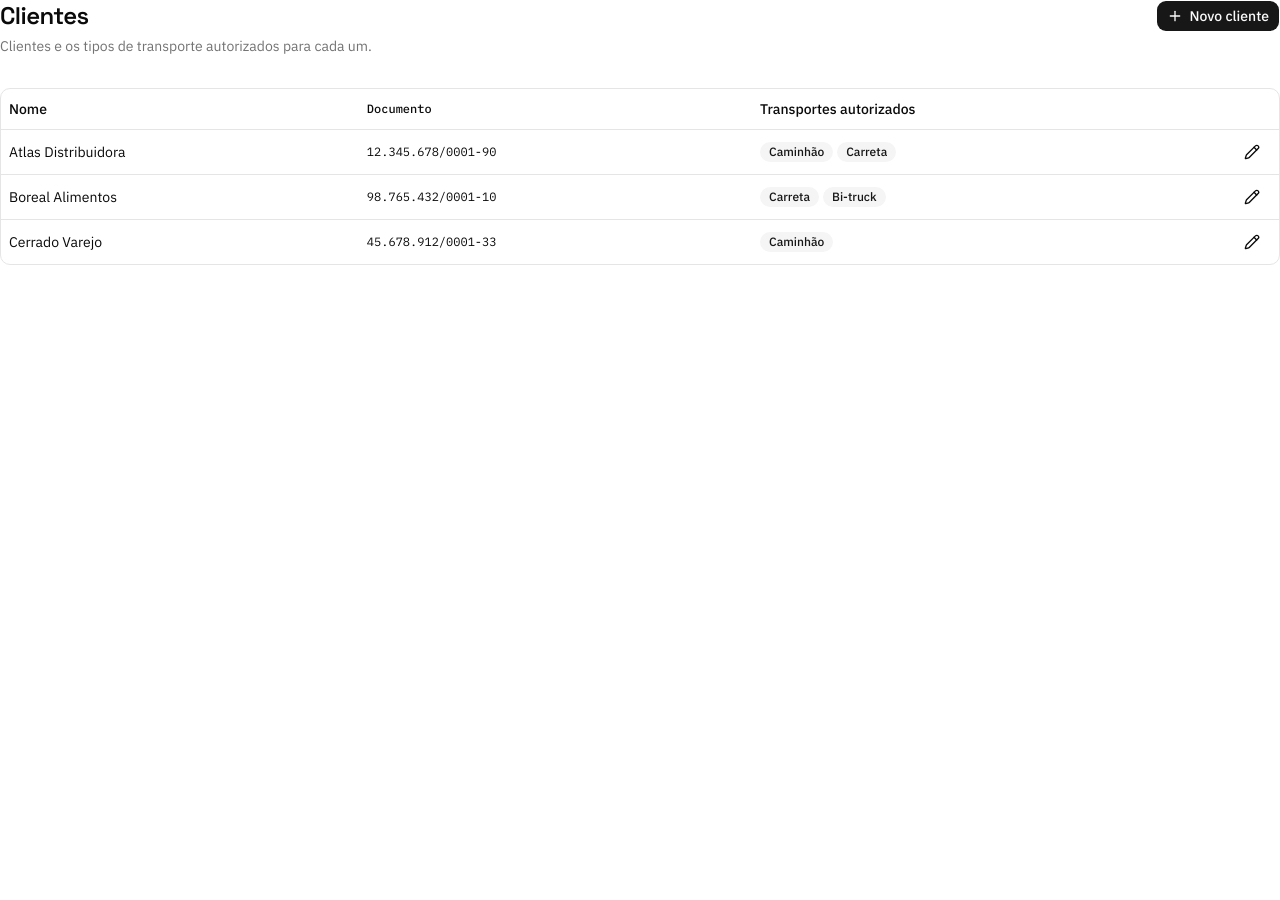
Test: ClientsView (integração) › cria um novo cliente selecionando os transportes autorizados
Expected: the text "Atlas Distribuidora" is shown, x1=1 y1=129 x2=359 y2=174
Click the button "Novo cliente" at (1218,16), box x1=1156 y1=0 x2=1279 y2=32
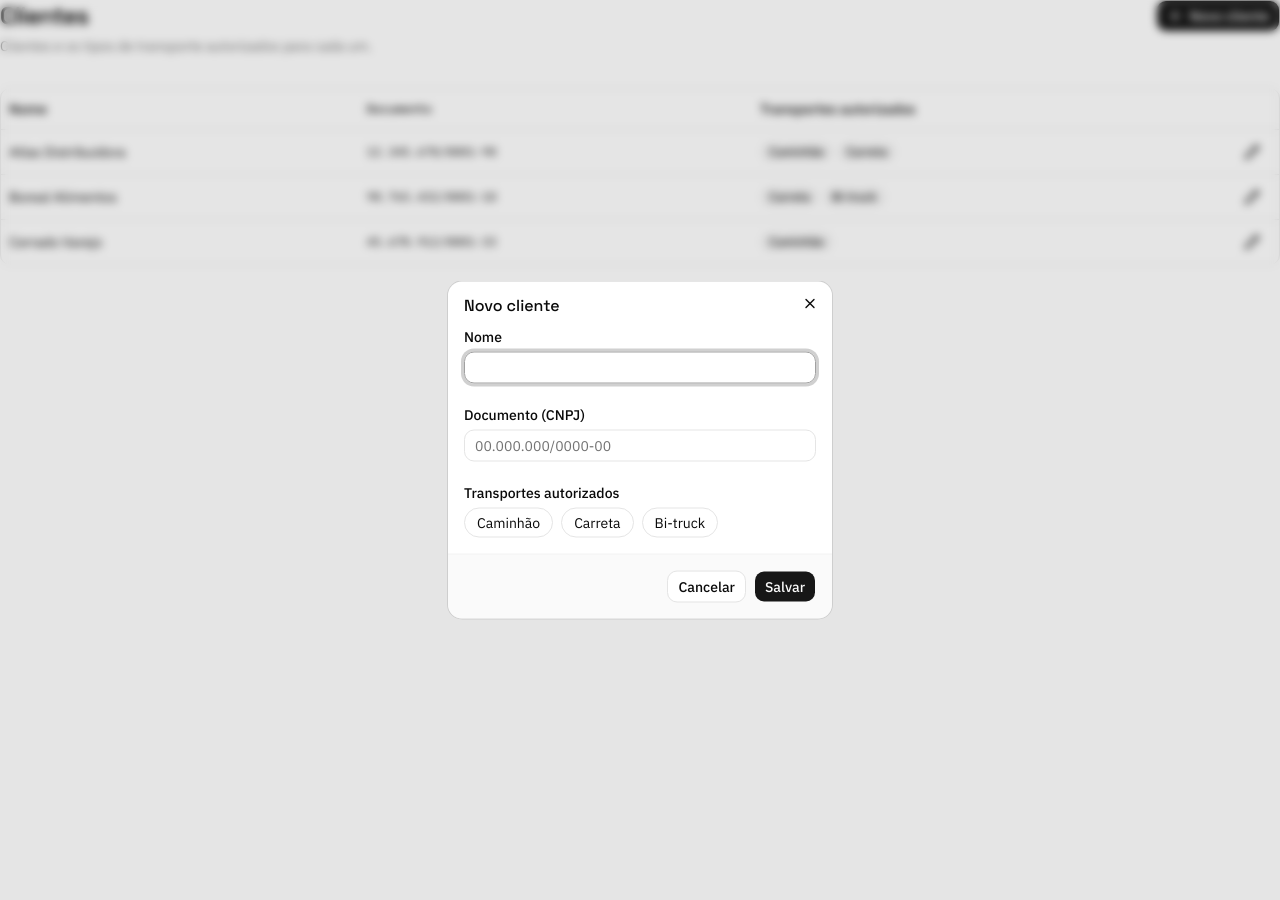
Type "Delta Logística" into the field labelled "Nome" at (640,368), box x1=464 y1=352 x2=816 y2=384
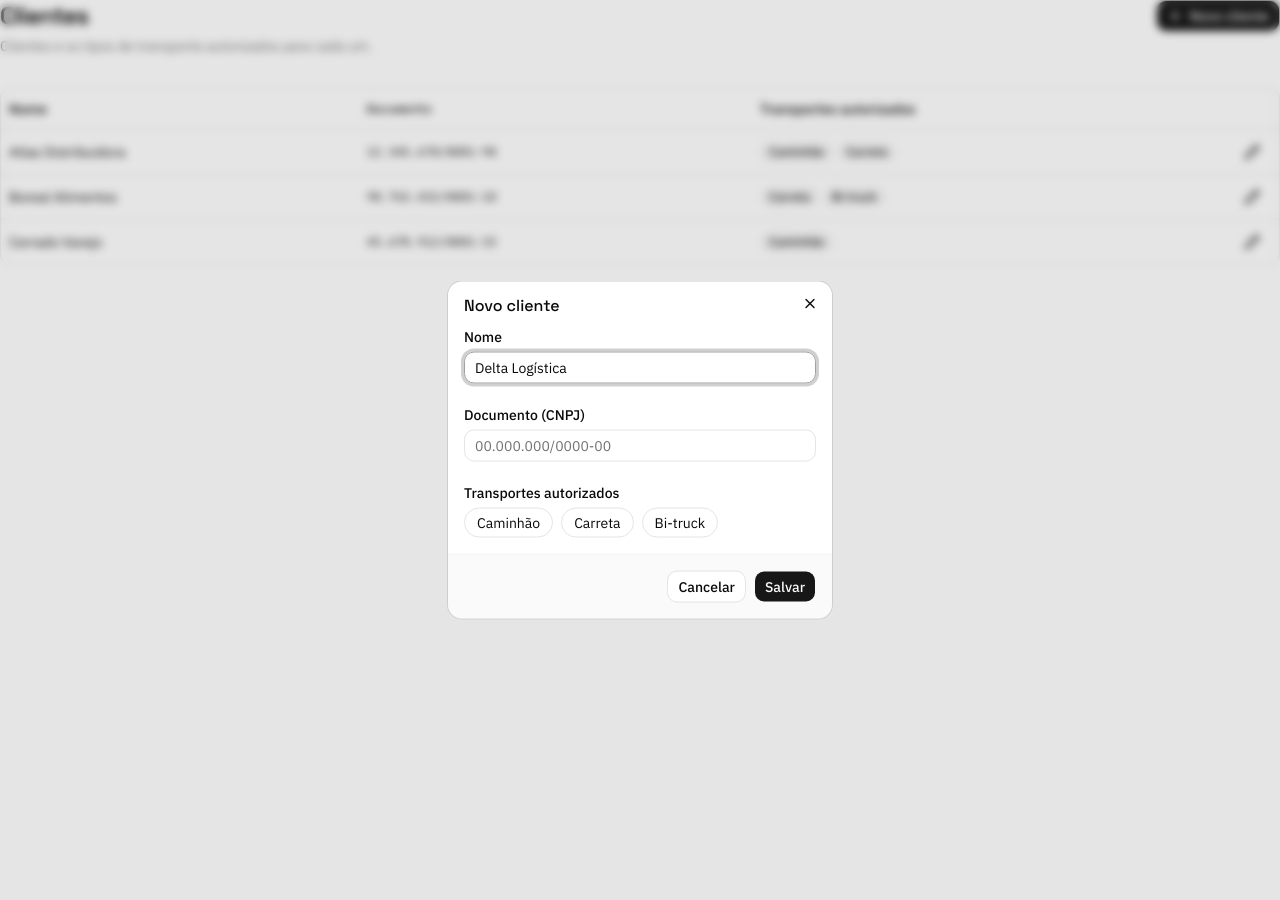
Type "11222333000181" into the field labelled "Documento (CNPJ)" at (640,446), box x1=464 y1=430 x2=816 y2=462
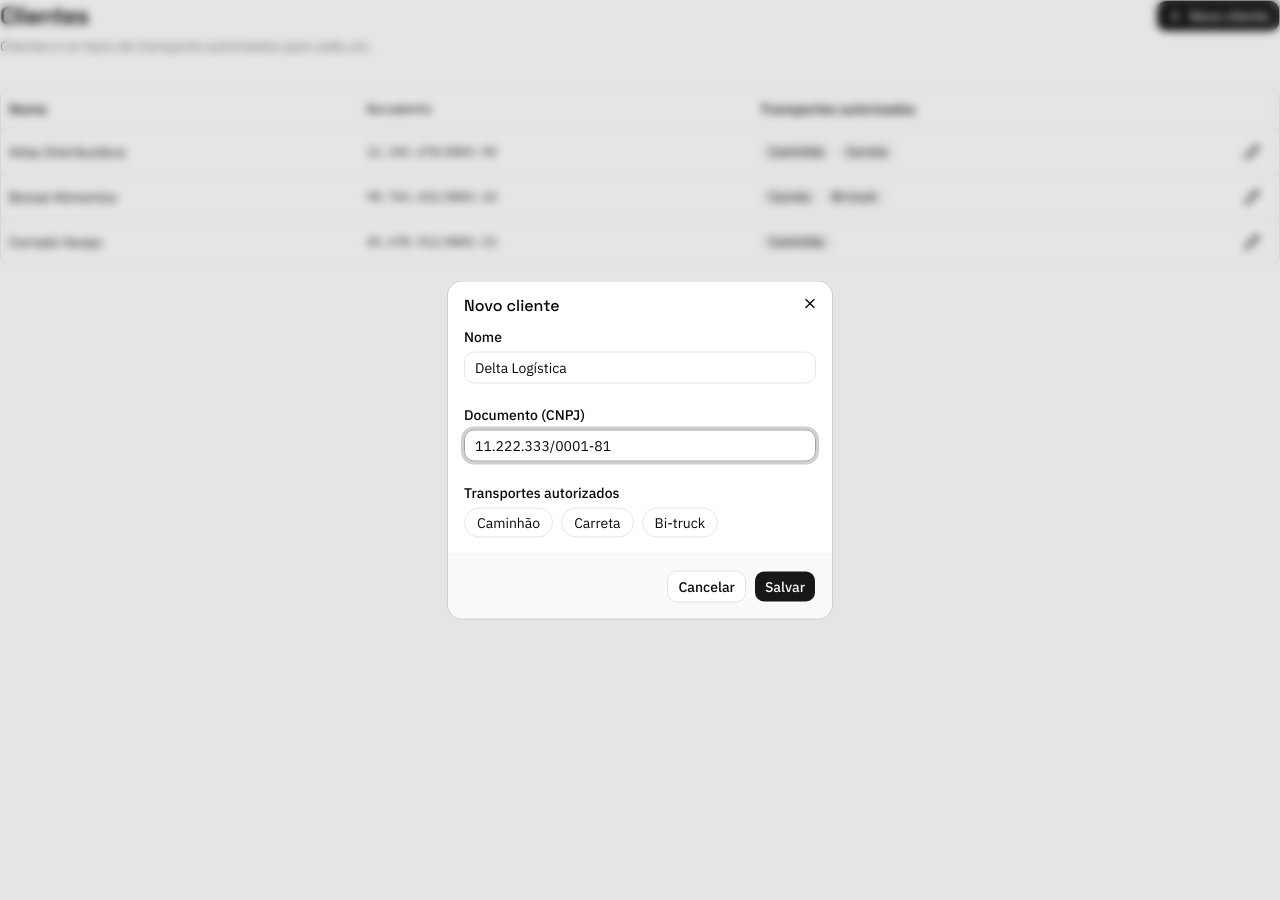
Click the button "Caminhão" at (509,522), box x1=464 y1=508 x2=553 y2=538
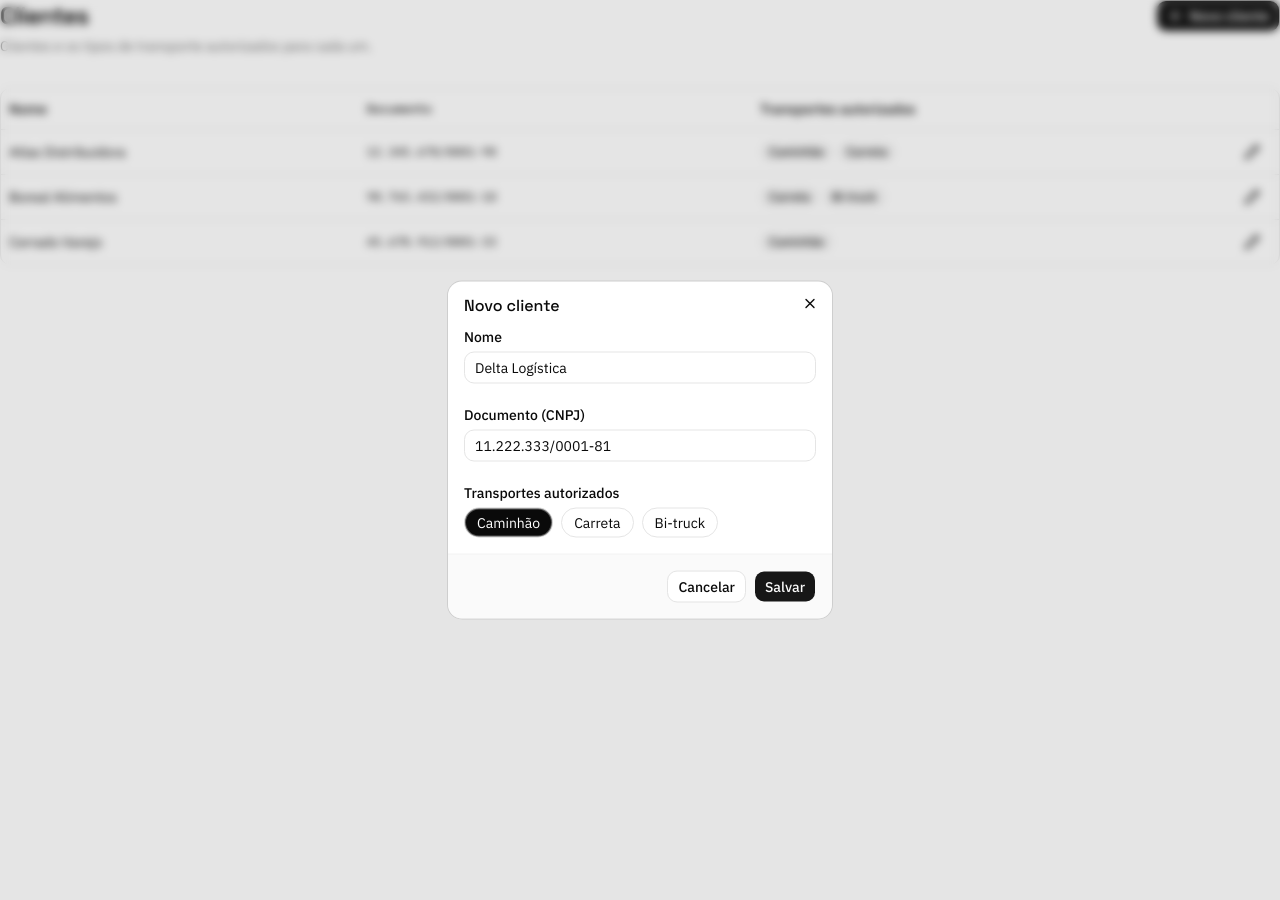
Click the button "Salvar" at (785,586), box x1=754 y1=570 x2=816 y2=602
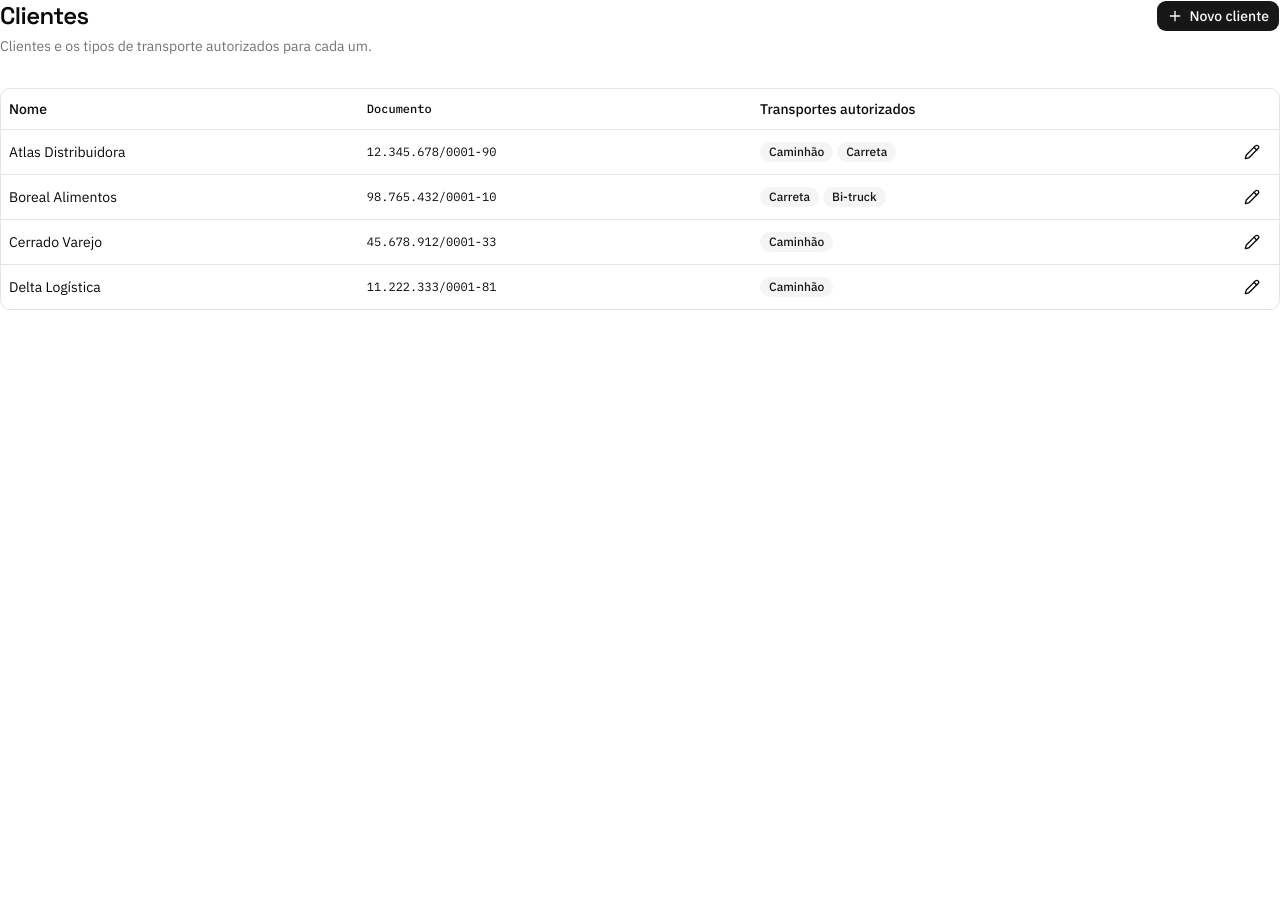
Expected: the text "Delta Logística" is shown, x1=1 y1=264 x2=359 y2=308
Expected: the text "11.222.333/0001-81" is shown, x1=359 y1=264 x2=752 y2=308
